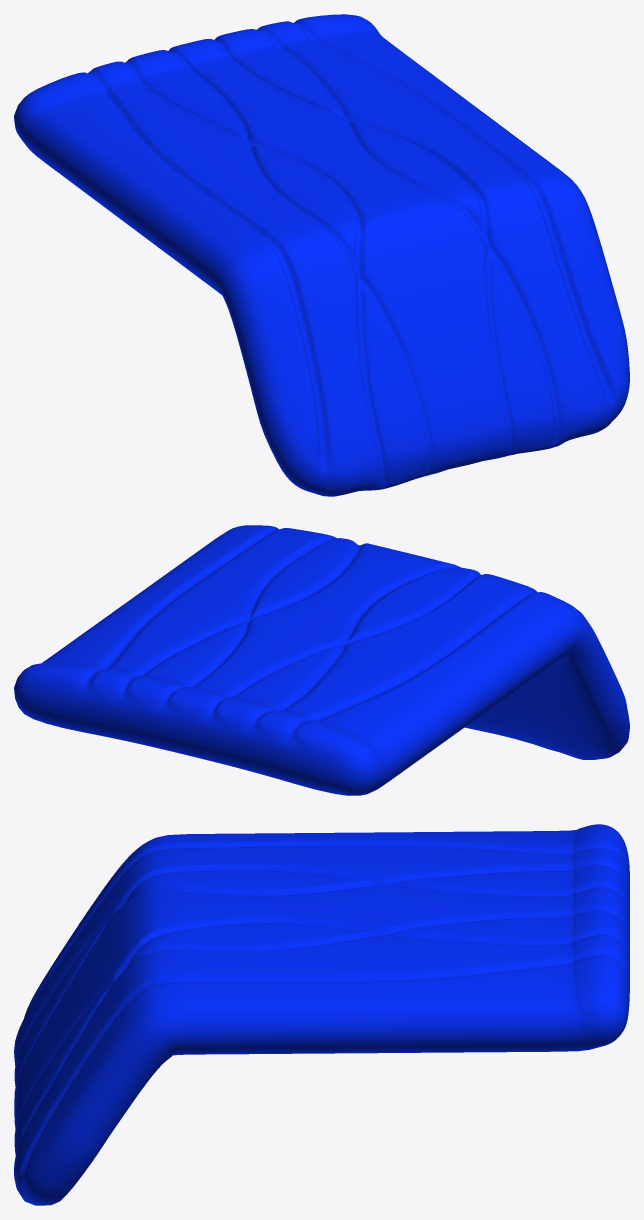
Rendered from chair_middle_left_cushion.fbx.
3 views of the same model, one above another, from view 1: azimuth 30°, elevation 25°; view 2: azimuth 150°, elevation 25°; view 3: azimuth 270°, elevation 25° (orthographic). The views are drawn at different scales.
Visible parts, largest first — view 1: ZuoYi_M_L_6; view 2: ZuoYi_M_L_6; view 3: ZuoYi_M_L_6.
Part boxes in pixels (x1=…): ZuoYi_M_L_6: x1=14, y1=14, x2=629, y2=496; ZuoYi_M_L_6: x1=14, y1=525, x2=629, y2=795; ZuoYi_M_L_6: x1=14, y1=824, x2=629, y2=1205.
Size of the model in its own units: 36.68 by 21.95 by 50.82.
